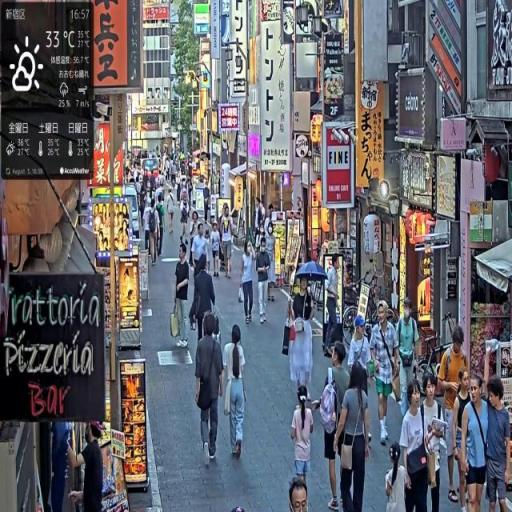person: (436, 327, 469, 499), (334, 363, 372, 512), (319, 341, 352, 511), (398, 378, 436, 512), (195, 313, 226, 470), (370, 300, 401, 448), (286, 272, 316, 408), (462, 378, 491, 512), (484, 374, 512, 512), (451, 361, 475, 512), (420, 374, 445, 512), (223, 324, 248, 462), (69, 420, 106, 512), (394, 298, 421, 419), (292, 385, 316, 503), (191, 255, 217, 352), (51, 420, 76, 512), (174, 244, 192, 346), (324, 254, 341, 359), (239, 240, 258, 328), (256, 238, 272, 325), (220, 204, 235, 280), (289, 475, 312, 512), (156, 196, 167, 260), (167, 189, 177, 236)
